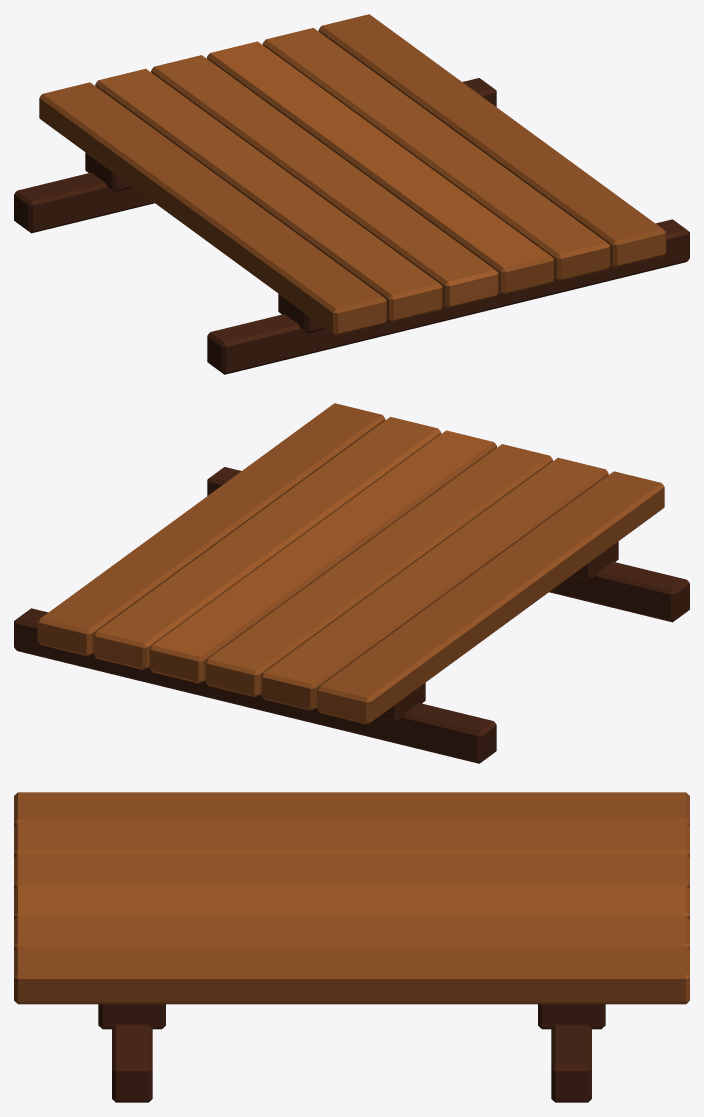
File: D17_Cart_Bed.fbx
3 views of the same model, one above another, from view 1: azimuth 30°, elevation 25°; view 2: azimuth 150°, elevation 25°; view 3: azimuth 270°, elevation 25° (orthographic). The views are drawn at different scales.
Parts seen in each view (by area): view 1: D17_Cart_Bed; view 2: D17_Cart_Bed; view 3: D17_Cart_Bed.
Part boxes in pixels (x1,y1,x2,y2): D17_Cart_Bed: [14, 14, 689, 374]; D17_Cart_Bed: [14, 403, 689, 763]; D17_Cart_Bed: [14, 792, 689, 1102].
Size of the model in its own units: 1.82 by 0.3 by 2.
Materials: 2 (2 with a texture image).
